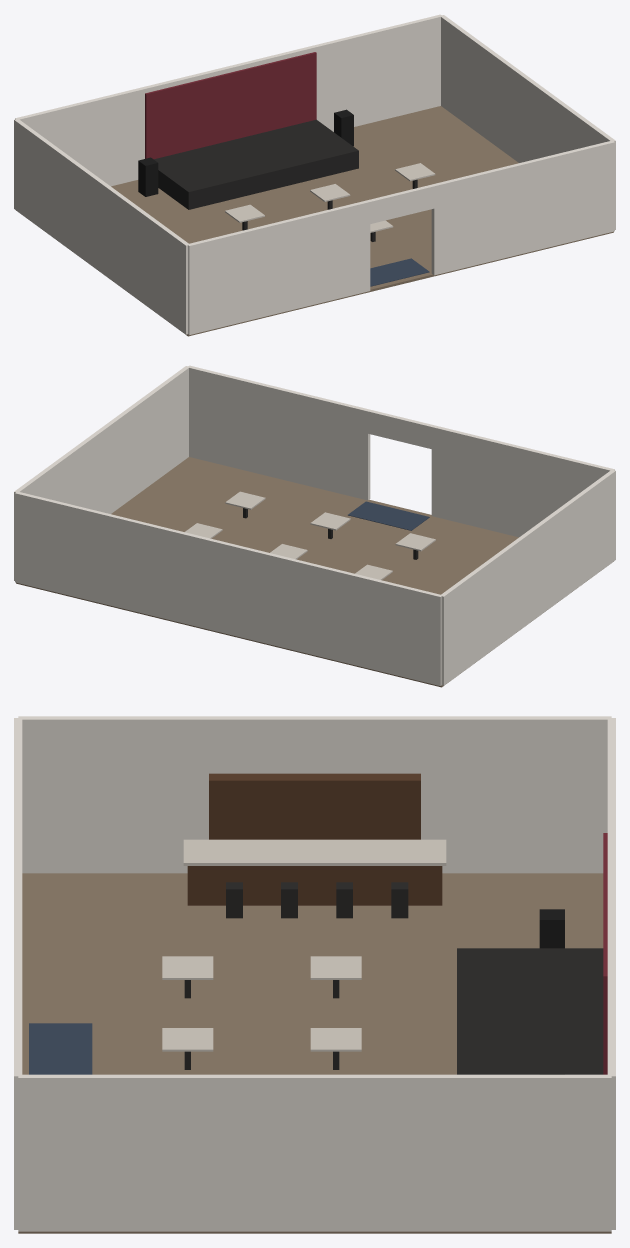
File: venue.glb
3 renders of one model, top to bottom at view 1: azimuth 30°, elevation 25°; view 2: azimuth 150°, elevation 25°; view 3: azimuth 270°, elevation 25°, orthographic. The views are drawn at different scales.
Visible parts, largest first — view 1: Wall_Back, Floor, Wall_Front_Right, Wall_Front_Left, Wall_Left, Wall_Right, Stage_Backdrop, Stage, Entrance_Lintel, Entrance_Mat, Speaker_Left, Speaker_Right (+3 smaller); view 2: Wall_Back, Floor, Wall_Front_Right, Wall_Left, Wall_Front_Left, Wall_Right, Entrance_Lintel, Entrance_Mat, Table_4_Top, Table_6_Top, Table_2_Top; view 3: Wall_Right, Floor, Wall_Left, Stage, Bar_Shelf, Bar_Counter, Bar_Top, Wall_Back, Entrance_Mat, Wall_Front_Right, Wall_Front_Left, Table_1_Top (+5 smaller).
Boxes of the visible parts, box(x1,y1,x2,y2) form: Wall_Back: box(15, 14, 442, 186); Floor: box(16, 106, 613, 336); Wall_Front_Right: box(431, 141, 614, 275); Wall_Front_Left: box(188, 200, 370, 334); Wall_Left: box(14, 119, 189, 334); Wall_Right: box(441, 15, 615, 229); Stage_Backdrop: box(145, 52, 316, 159); Stage: box(154, 119, 358, 209); Entrance_Lintel: box(368, 184, 434, 223); Entrance_Mat: box(370, 258, 429, 286); Speaker_Left: box(138, 157, 158, 196); Speaker_Right: box(334, 109, 353, 146); Wall_Back: box(15, 492, 441, 685); Floor: box(16, 457, 613, 687); Wall_Front_Right: box(188, 365, 370, 500); Wall_Left: box(440, 470, 615, 685); Wall_Front_Left: box(431, 425, 614, 537); Wall_Right: box(14, 366, 189, 580); Entrance_Lintel: box(368, 409, 433, 448); Entrance_Mat: box(348, 501, 429, 530); Table_4_Top: box(310, 512, 350, 530); Table_6_Top: box(225, 491, 265, 509); Table_2_Top: box(395, 533, 435, 551); Wall_Right: box(18, 1074, 611, 1231); Floor: box(18, 873, 611, 1233); Wall_Left: box(18, 716, 611, 873); Stage: box(457, 948, 603, 1074); Bar_Shelf: box(209, 773, 420, 839); Bar_Counter: box(187, 866, 442, 905); Bar_Top: box(183, 839, 446, 865); Wall_Back: box(607, 718, 615, 1229); Entrance_Mat: box(29, 1023, 92, 1074); Wall_Front_Right: box(14, 924, 22, 1229); Wall_Front_Left: box(14, 718, 22, 870); Table_1_Top: box(310, 956, 361, 979).
Size of the model in its own units: 20.2 by 4.1 by 14.2.
